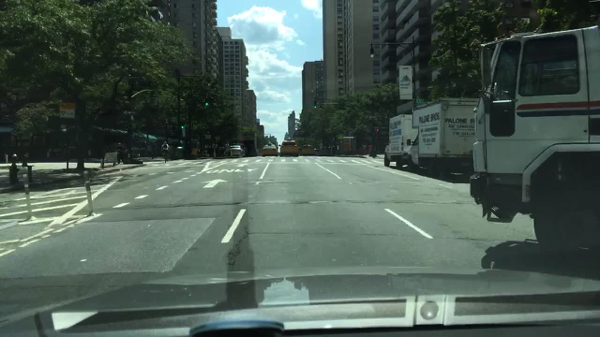bike: (162, 151, 169, 164)
car: (279, 139, 298, 157), (260, 142, 279, 158), (229, 146, 246, 158), (235, 142, 249, 156), (300, 145, 316, 154), (321, 147, 334, 156)
person: (116, 143, 125, 166), (151, 140, 158, 159), (146, 142, 152, 159), (12, 154, 19, 163)
rider: (162, 142, 170, 154)
traffic light: (313, 100, 317, 109), (205, 98, 209, 106), (181, 122, 185, 129), (375, 127, 379, 134)
traffic sign: (398, 65, 411, 100), (59, 109, 74, 119), (59, 103, 76, 110), (123, 109, 138, 114), (215, 135, 221, 142), (417, 99, 425, 103), (205, 134, 211, 139)
truck: (469, 26, 598, 256), (383, 96, 480, 176)
